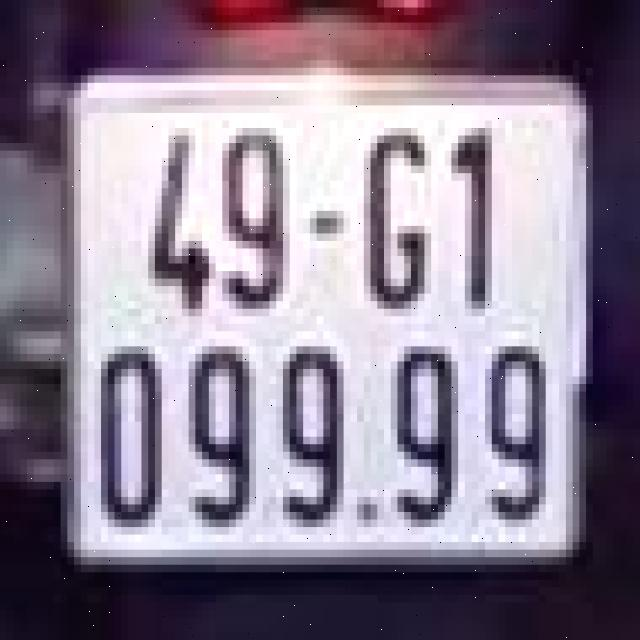0: (94, 338, 168, 534)
1: (445, 120, 505, 316)
4: (145, 120, 219, 332)
9: (273, 335, 354, 531), (381, 339, 462, 527), (475, 339, 556, 527), (222, 117, 296, 320), (182, 335, 256, 531)
G: (354, 120, 441, 316)
